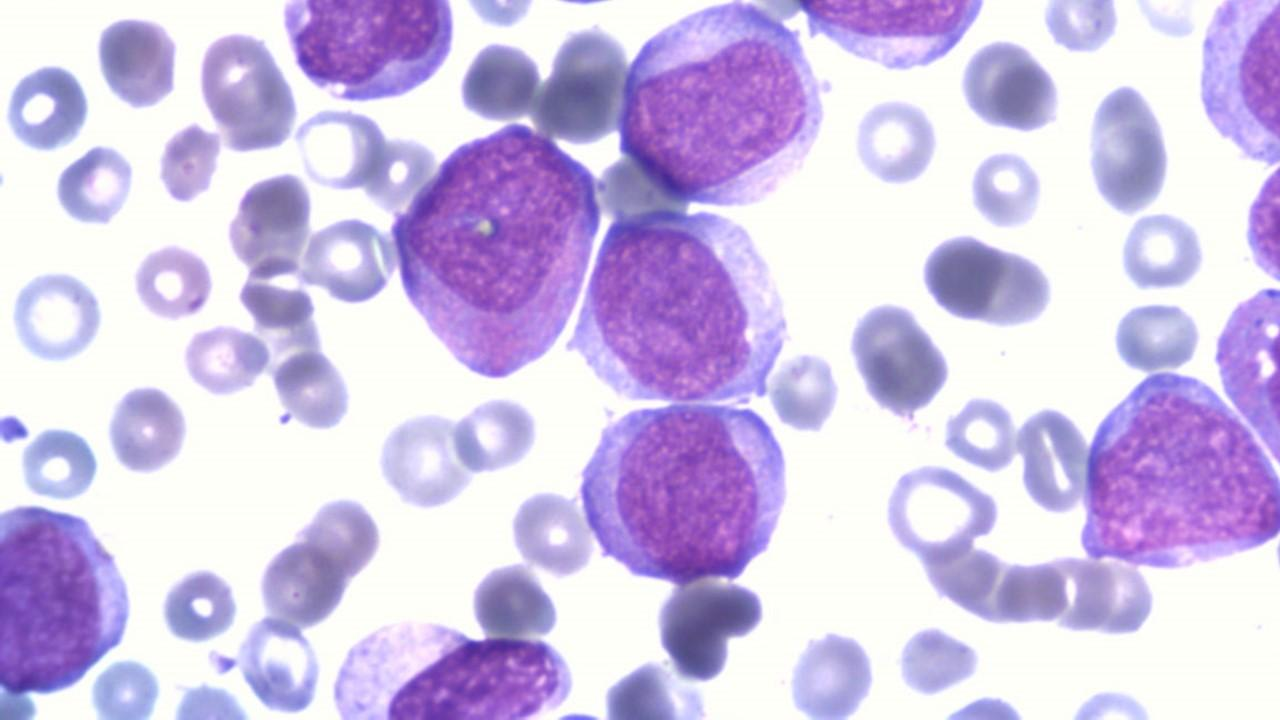Platelets: (0, 408, 33, 450), (276, 410, 292, 427)
RBC: (846, 292, 960, 420), (1082, 77, 1176, 217), (648, 574, 768, 683), (880, 461, 1002, 564), (372, 407, 481, 513), (3, 266, 109, 365), (782, 624, 886, 718), (1016, 398, 1096, 518), (301, 211, 401, 305), (958, 35, 1051, 134), (962, 240, 1060, 333), (1, 59, 94, 156), (849, 93, 942, 189), (238, 614, 325, 716), (290, 105, 390, 193), (96, 10, 183, 111), (102, 382, 191, 478), (916, 230, 1008, 322), (256, 535, 346, 627), (506, 488, 596, 578), (197, 29, 278, 127), (50, 141, 138, 231), (449, 392, 542, 477), (220, 62, 302, 156), (127, 239, 217, 324), (456, 37, 543, 124), (891, 626, 988, 704), (1116, 213, 1210, 292), (179, 319, 271, 399), (1111, 298, 1205, 374), (158, 562, 242, 647), (272, 348, 354, 434), (767, 348, 846, 434), (966, 149, 1048, 230), (235, 254, 321, 330), (16, 425, 102, 501), (940, 394, 1018, 473), (155, 121, 222, 208), (1039, 2, 1123, 57), (1064, 682, 1158, 718)
WBC: (384, 117, 606, 386), (608, 0, 832, 213), (564, 203, 794, 410), (570, 393, 795, 589), (1072, 365, 1280, 575), (1, 498, 143, 698), (349, 625, 590, 717), (276, 1, 460, 106), (782, 1, 990, 77), (1193, 0, 1280, 172), (1210, 273, 1280, 478), (1240, 147, 1280, 296)
